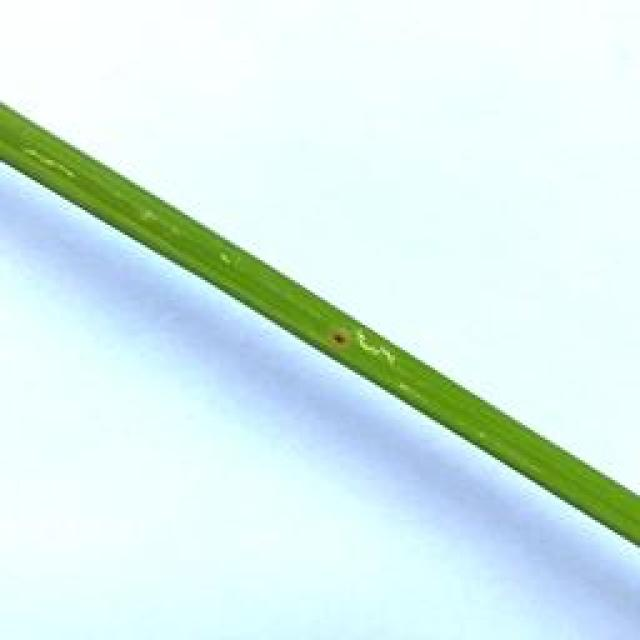Brown_Spot: (324, 324, 352, 353)
